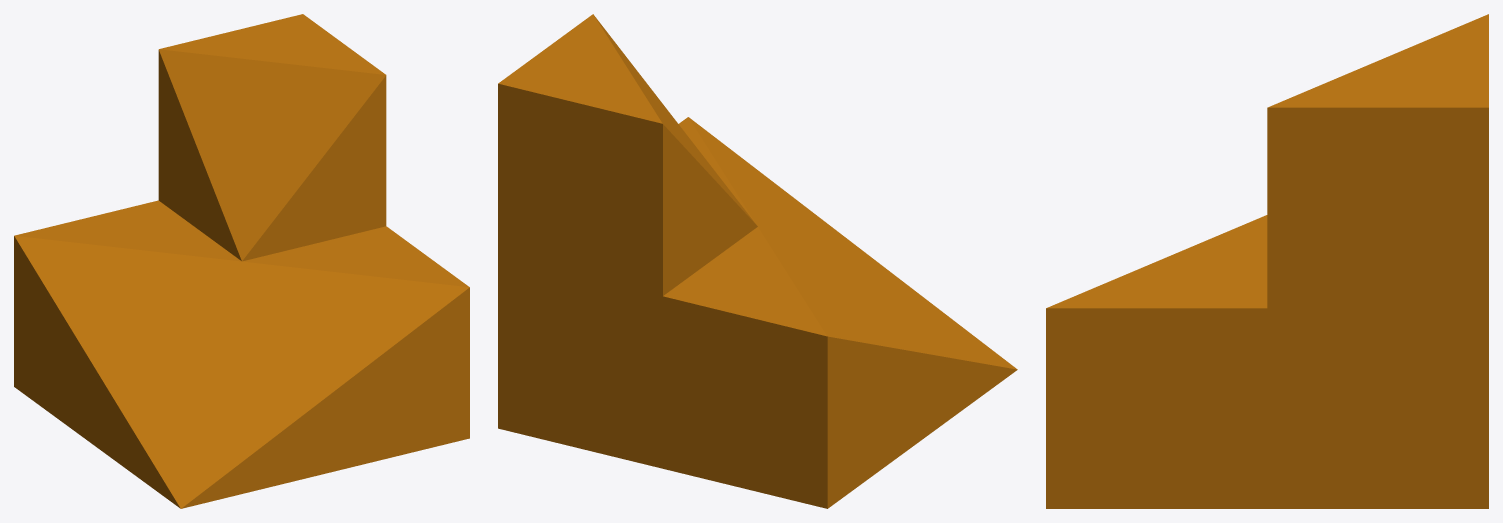
The model's file is Pieza-G.glb.
The picture shows the model from 3 angles, left to right: view 1: azimuth 30°, elevation 25°; view 2: azimuth 150°, elevation 25°; view 3: azimuth 270°, elevation 25°; orthographic projection. The views are drawn at different scales.
Visible parts, largest first — view 1: Pieza-G.stl; view 2: Pieza-G.stl; view 3: Pieza-G.stl.
Part boxes in pixels (box(x1,y1,x2,y2)): Pieza-G.stl: box(14, 14, 469, 508); Pieza-G.stl: box(498, 14, 1017, 508); Pieza-G.stl: box(1046, 14, 1488, 508).
Size of the model in its own units: 4 by 4 by 4.
